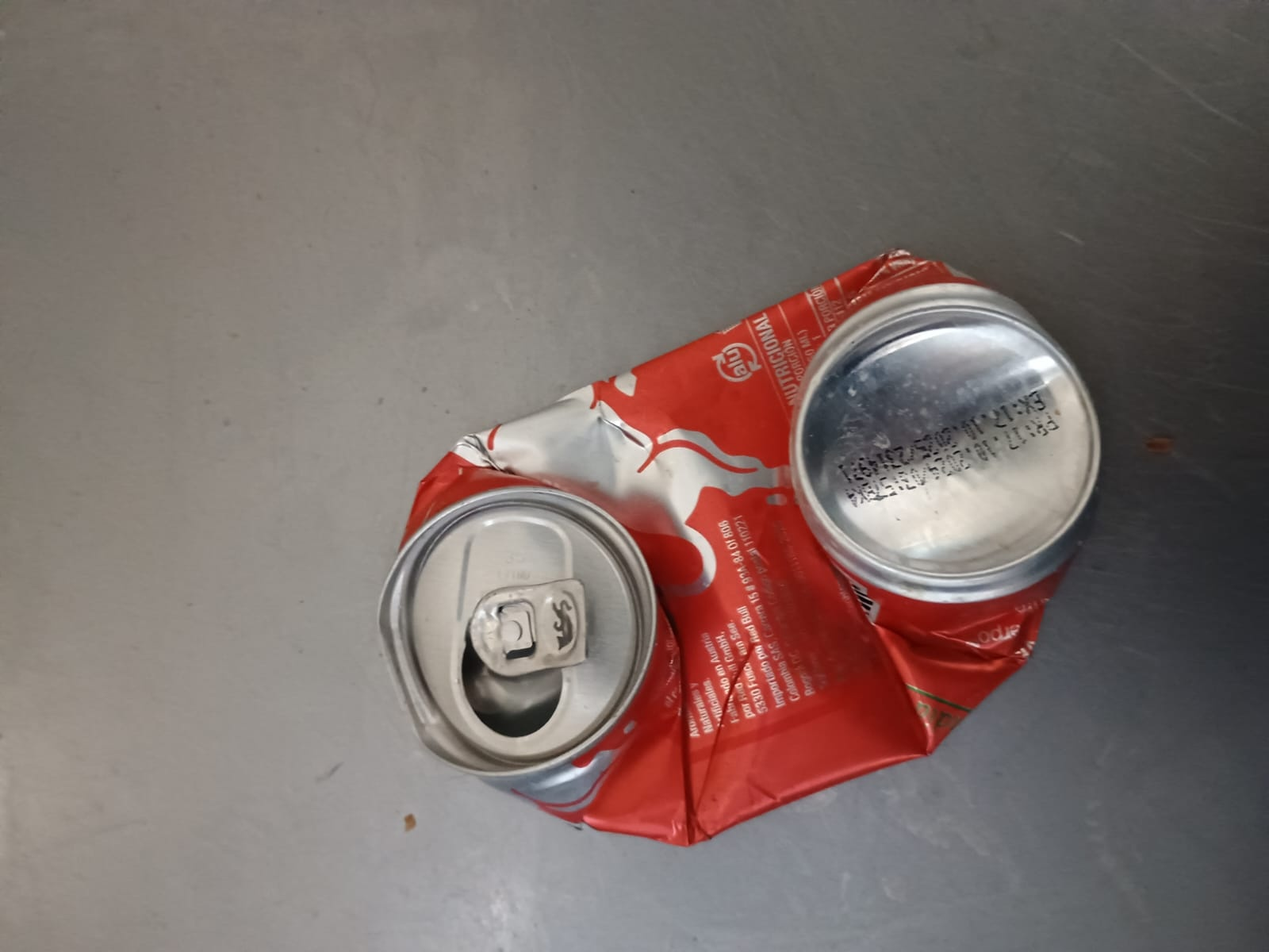Metal: (377, 248, 1103, 842)
